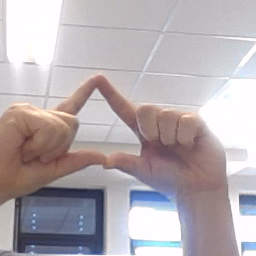J: (1, 72, 230, 198)
